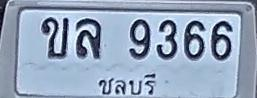3: (156, 19, 177, 60)
6: (184, 20, 205, 60), (211, 20, 232, 60)
9: (129, 18, 150, 60)
A02: (41, 16, 69, 58)
A36: (76, 17, 102, 58)
CBI: (93, 69, 161, 98)
